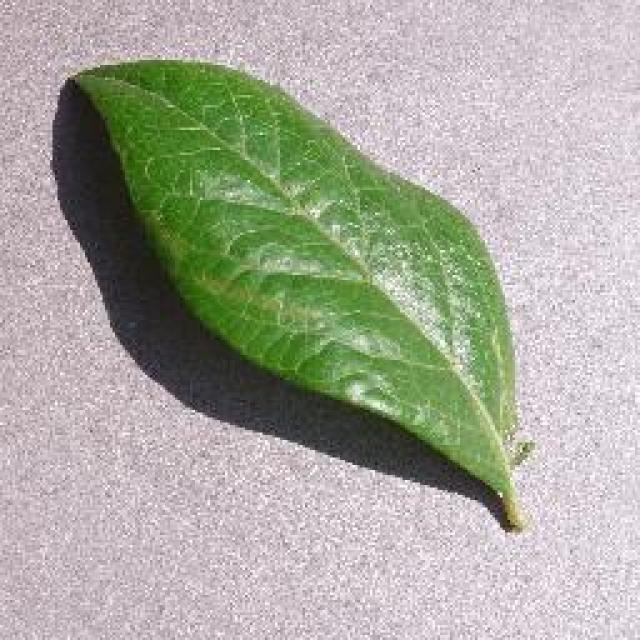Blu_healthy: (141, 91, 449, 436)
